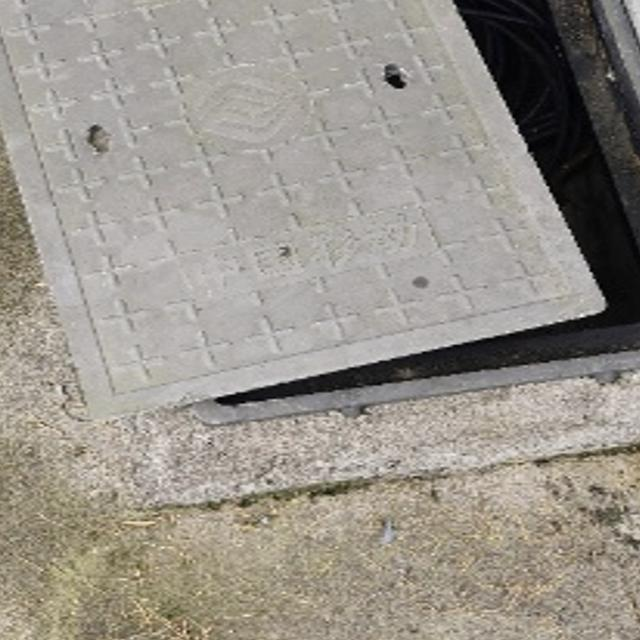uncovered: (0, 0, 640, 437)
